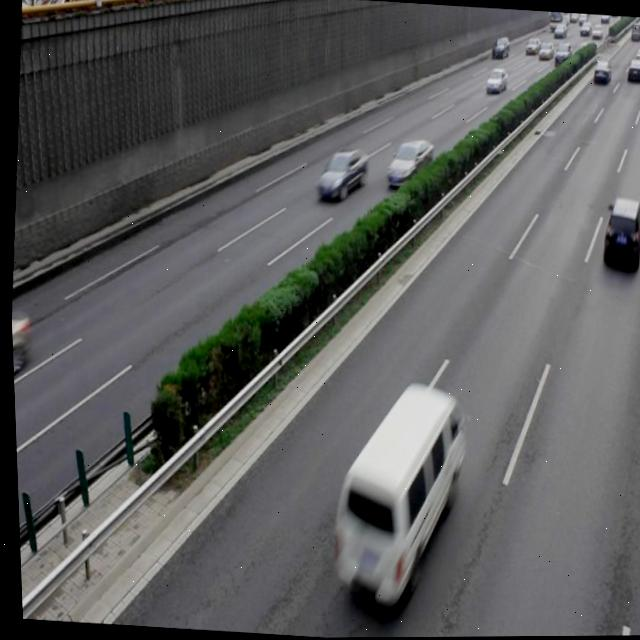car: (596, 196, 640, 273), (312, 145, 367, 203), (382, 136, 433, 193)
truck: (316, 375, 466, 617)
